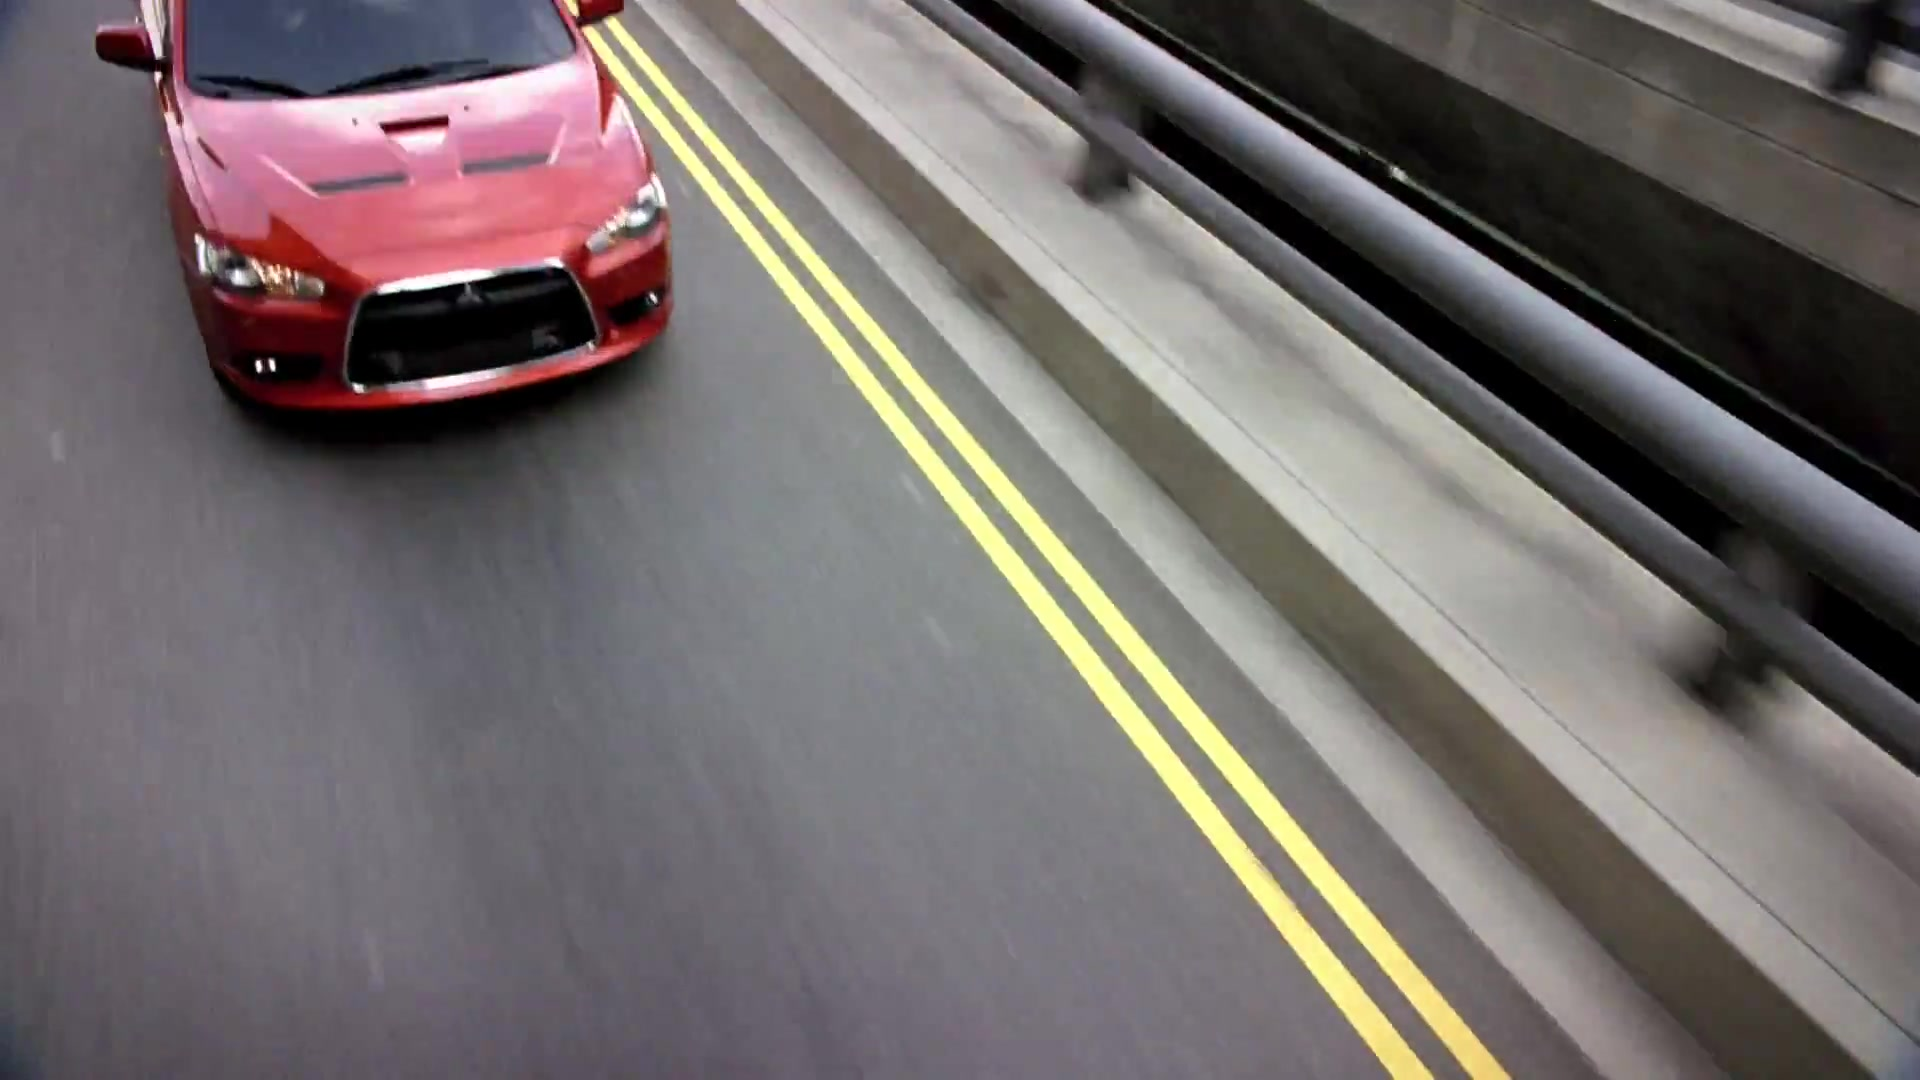car: (90, 3, 680, 450)
